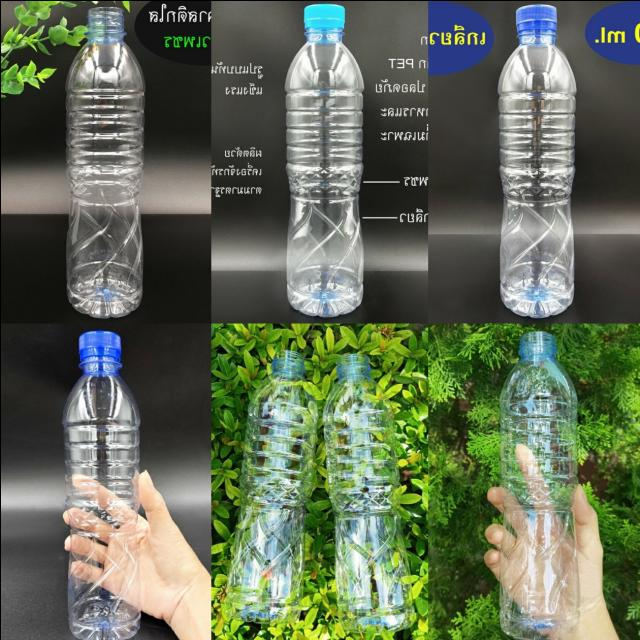plastik: (489, 330, 579, 640), (223, 349, 316, 622), (323, 352, 413, 630), (284, 3, 363, 316), (497, 4, 575, 316), (65, 6, 143, 316), (62, 330, 140, 640)
